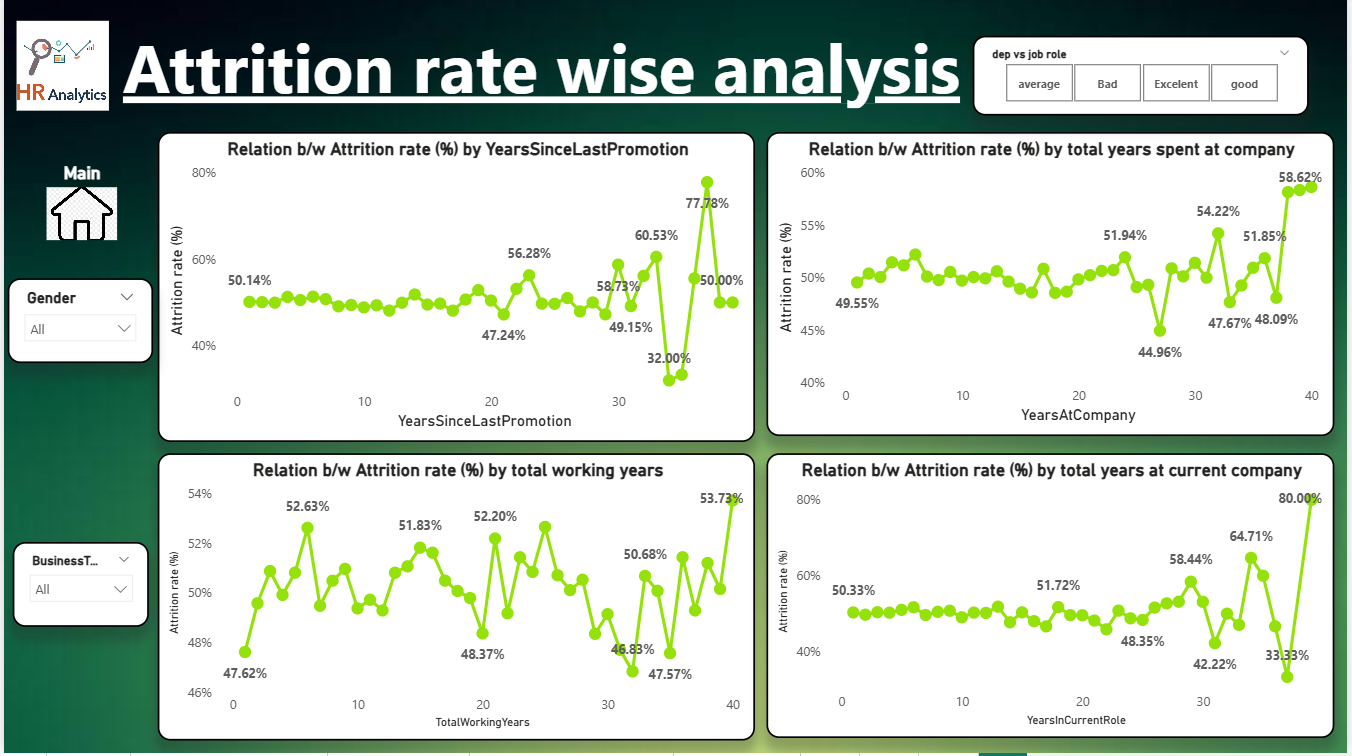

The page's visual inventory and layout, read from the dashboard file:
{"tool":"powerbi","page":{"name":"2","canvas":[1280,720],"ordinal":2},"visuals":[{"type":"shape","box":[101.2,15.5,821.4,97.6],"z":0},{"type":"group","id":"g1","title":"Group 1","box":[3.6,267.8,138.1,332.1],"z":0,"group":"g2"},{"type":"lineChart","title":"Relation b/w Attrition rate (%) by YearsSinceLastPromotion","fields":{"Y":["HR_1.Attrition rate (%)"],"Category":["HR_2.YearsSinceLastPromotion"]},"box":[146.4,128.6,569.1,295.2],"z":1000},{"type":"image","title":"Main","box":[35.7,157.1,77.4,79.8],"z":1000,"group":"g2"},{"type":"lineChart","title":"Relation b/w Attrition rate (%) by total working years","fields":{"Y":["HR_1.Attrition rate (%)"],"Category":["HR_2.TotalWorkingYears"]},"box":[146.4,434.5,569.1,273.8],"z":2000},{"type":"lineChart","title":"Relation b/w Attrition rate (%) by total years spent at company","fields":{"Y":["HR_1.Attrition rate (%)"],"Category":["HR_2.YearsAtCompany"]},"box":[726.2,128.6,540.5,289.3],"z":3000},{"type":"lineChart","title":"Relation b/w Attrition rate (%) by total years  at current company","fields":{"Y":["HR_1.Attrition rate (%)"],"Category":["HR_2.YearsInCurrentRole"]},"box":[726.2,434.5,540.5,271.4],"z":4000},{"type":"slicer","fields":{"Values":["HR_2.work balance status"]},"box":[922.6,36.9,320.2,76.2],"z":5000},{"type":"slicer","fields":{"Values":["HR_1.Gender"]},"box":[3.6,267.8,138.1,81],"z":5000,"group":"g1"},{"type":"group","id":"g2","title":"Group 2","box":[3.6,157.1,138.1,442.9],"z":6000},{"type":"slicer","fields":{"Values":["HR_1.BusinessTravel"]},"box":[8.4,519,129.8,81],"z":6000,"group":"g1"},{"type":"image","box":[7.1,17.9,97.6,95.2],"z":7000}]}

Visuals, with their boxes in screenshot pixels (x1, y1, x2, y2), scaled from the page's 1280x720 canvas onto the 1352x756 screenshot:
shape: 107:16:974:119
"Group 1" group: 4:281:150:630
"Relation b/w Attrition rate (%) by YearsSinceLastPromotion" lineChart: 155:135:756:445
"Main" image: 38:165:119:249
"Relation b/w Attrition rate (%) by total working years" lineChart: 155:456:756:744
"Relation b/w Attrition rate (%) by total years spent at company" lineChart: 767:135:1338:439
"Relation b/w Attrition rate (%) by total years  at current company" lineChart: 767:456:1338:741
slicer - HR_2.work balance status: 974:39:1313:119
slicer - HR_1.Gender: 4:281:150:366
"Group 2" group: 4:165:150:630
slicer - HR_1.BusinessTravel: 9:545:146:630
image: 7:19:111:119
